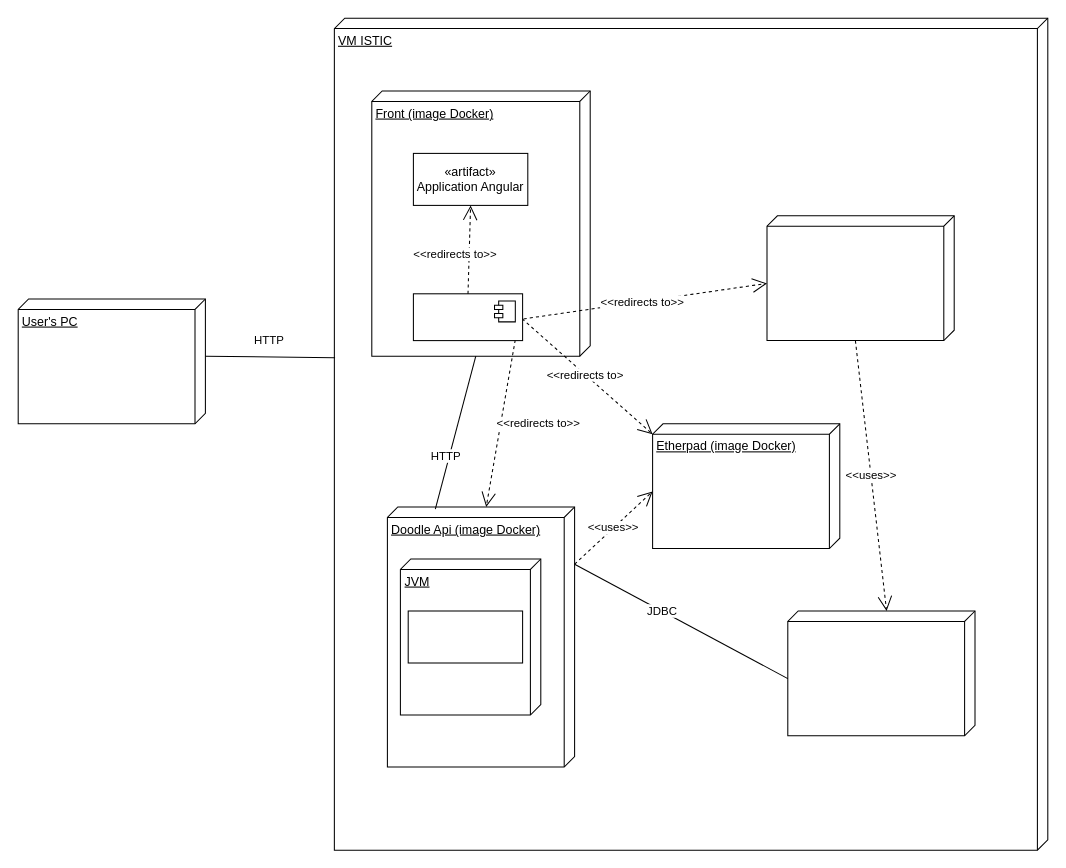
Image size: 1066x868. Some labels were removed from this diagram. Each missing label, with the centre of its shape:
"MySQL (image Docker)" belongs at (881,673).
"NGINX" belongs at (467,317).
"PhpMyAdmin (image Docker)" belongs at (860,278).
"«arifact» Application Quarkus" belongs at (465,636).
